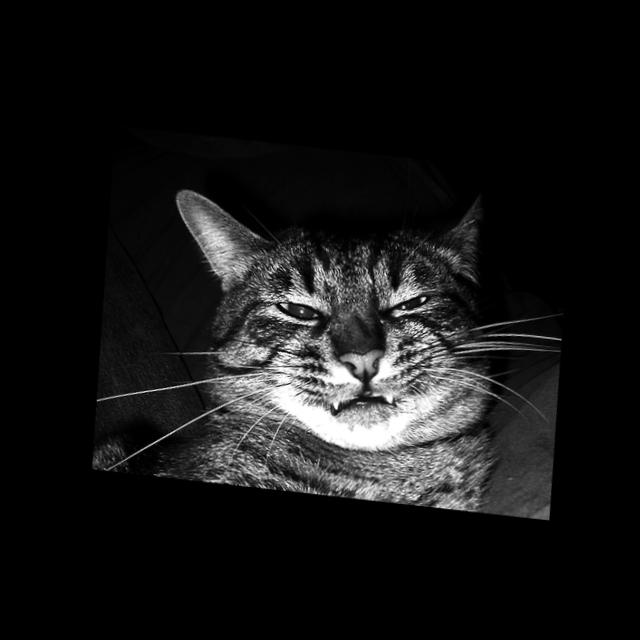animals: (159, 155, 485, 389)
